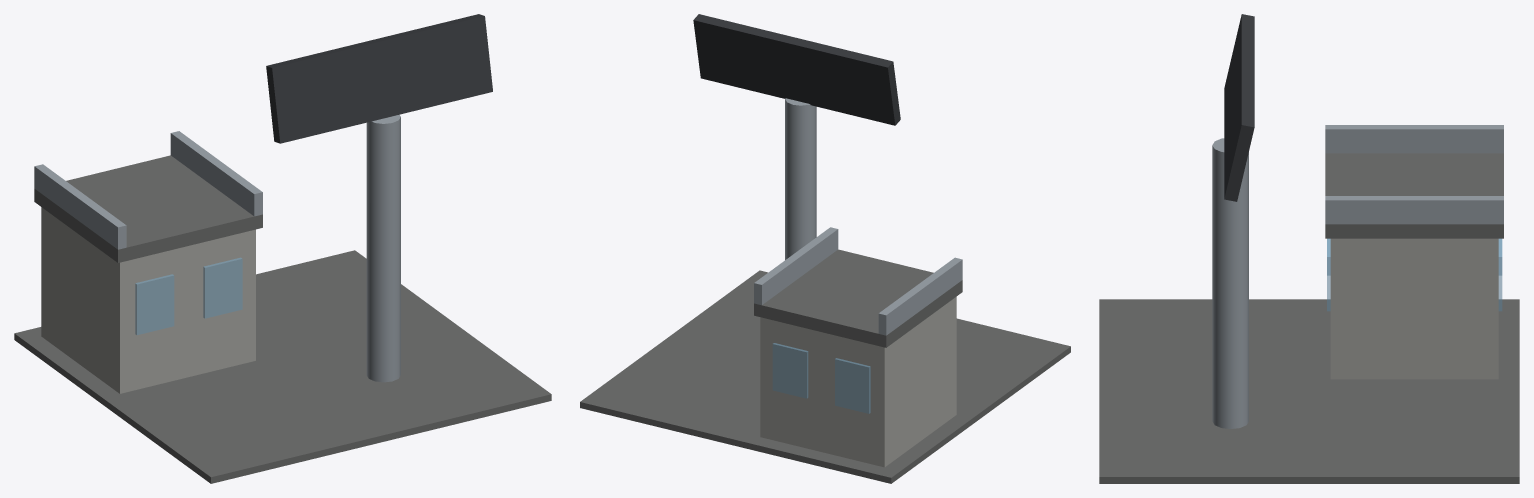
File: bld_special_radar_a06.glb
The picture shows the model from 3 angles, left to right: view 1: azimuth 30°, elevation 25°; view 2: azimuth 150°, elevation 25°; view 3: azimuth 270°, elevation 25°; orthographic projection. The views are drawn at different scales.
Visible parts, largest first — view 1: body, antenna; view 2: body, antenna; view 3: body, antenna.
Part boxes in pixels (x1,y1,x2,y2): body: (14,114,551,483); antenna: (266,14,492,143); body: (580,98,1070,483); antenna: (693,14,900,125); body: (1099,125,1519,483); antenna: (1224,14,1254,201).
Size of what is drawn, in the model's own units: 8 by 7.54 by 8.
